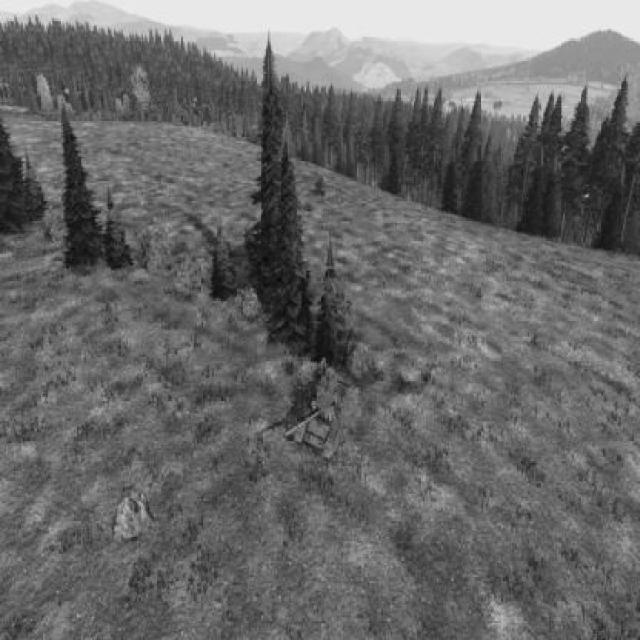Tank: (284, 360, 361, 467)
